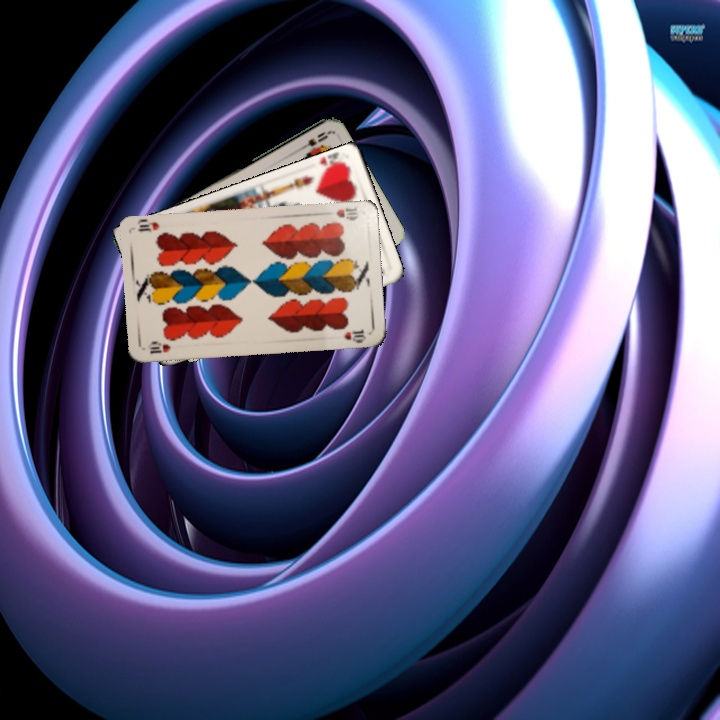H10: (332, 203, 361, 223), (144, 338, 173, 356)
HK: (315, 150, 348, 177)
SO: (293, 127, 331, 154)
